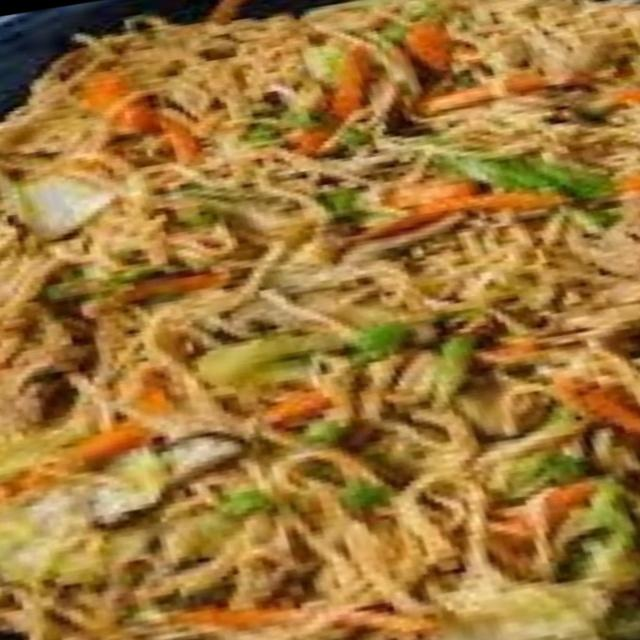pancit bihon: (7, 0, 639, 639)
